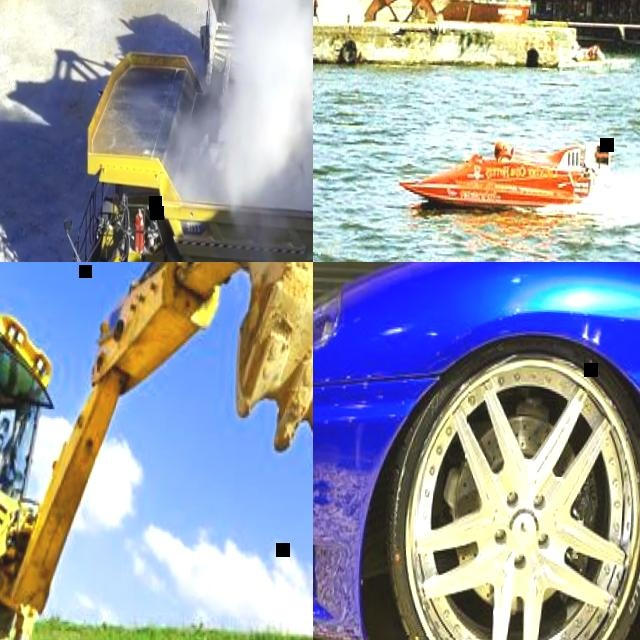Hardhat: (492, 141, 508, 157)
NO-Safety Vest: (313, 0, 321, 25), (313, 1, 318, 13)
Person: (493, 142, 510, 164)
machinery: (0, 262, 313, 640), (49, 34, 313, 262), (191, 0, 313, 106)
vehicle: (313, 262, 640, 640)
